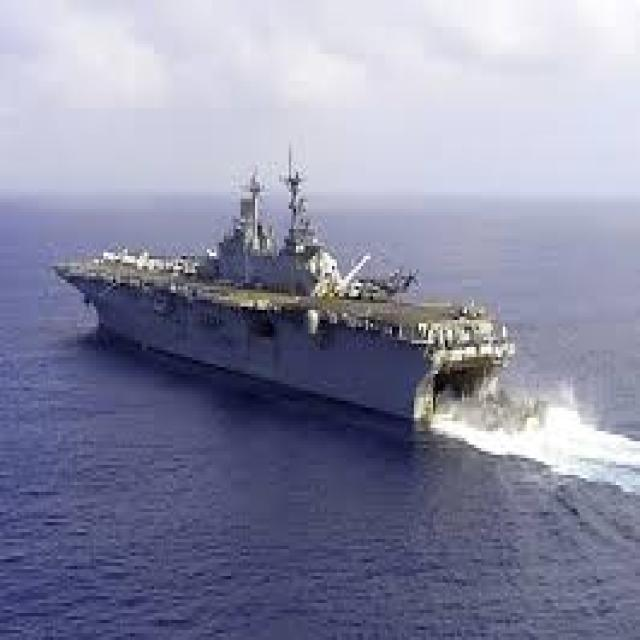navalvessels: (49, 140, 512, 432)
